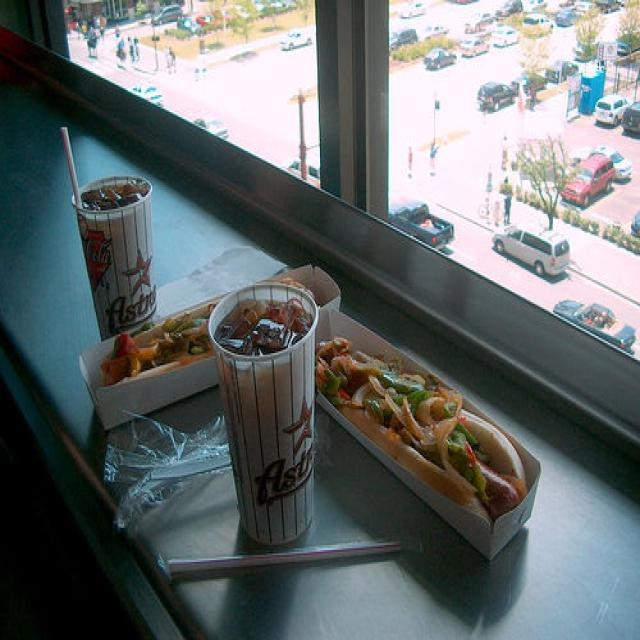Vehicle: (128, 0, 639, 250), (554, 296, 636, 354), (491, 220, 570, 277), (389, 200, 457, 248), (560, 152, 616, 210), (476, 82, 516, 112), (596, 92, 629, 127), (421, 45, 458, 71), (152, 3, 185, 28), (460, 34, 491, 58), (621, 98, 640, 137), (279, 31, 313, 51), (622, 100, 640, 134), (203, 118, 229, 140), (400, 1, 429, 18), (196, 12, 221, 27)
